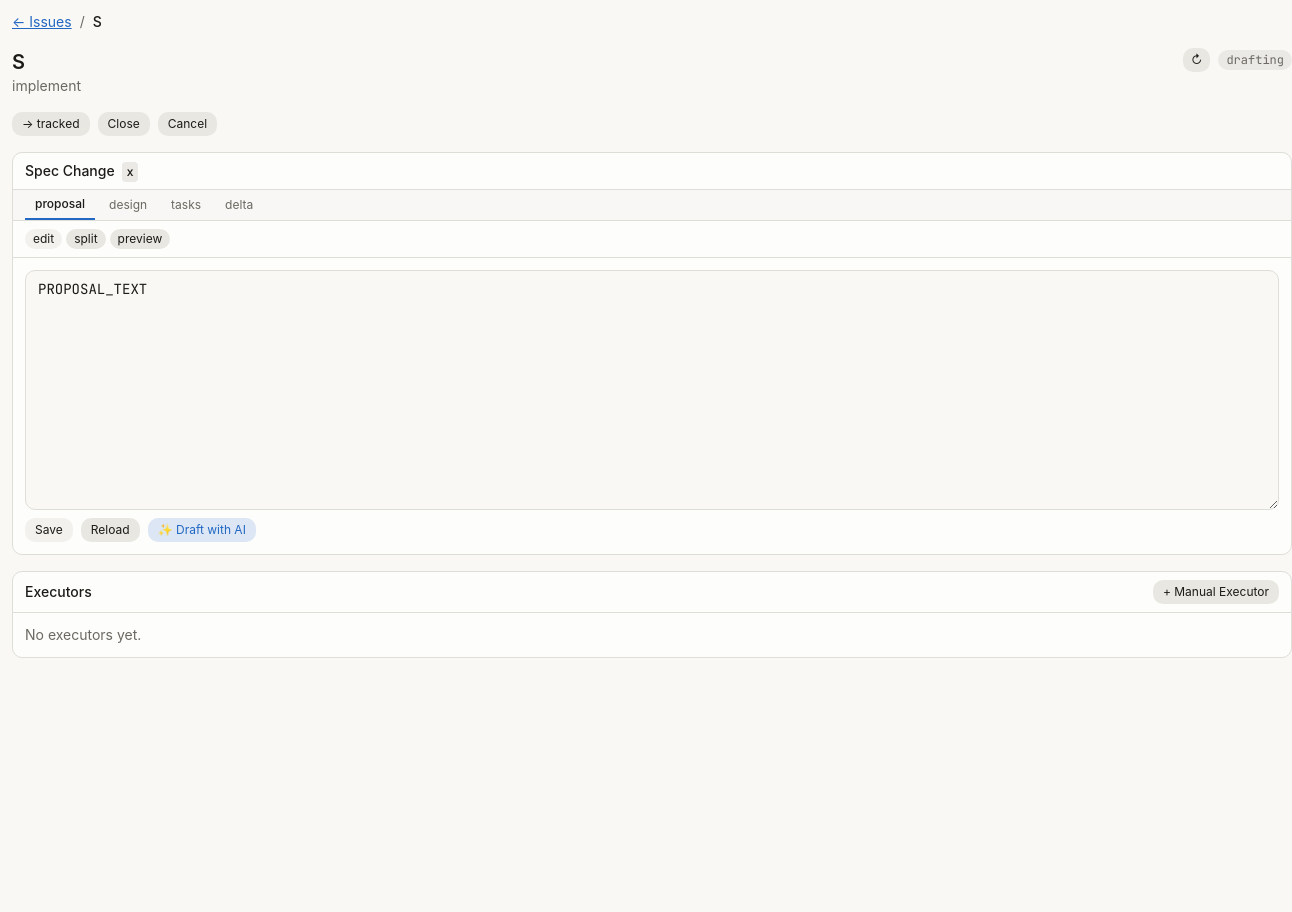
SubIssueDetailScreen › SpecChange artifact tabs › switches between artifact tabs
This screenshot has width=1292, height=912.
Check: the text box holds "PROPOSAL_TEXT", box [25, 270, 1279, 510]
Click the button "design" at (128, 205), box [99, 191, 157, 219]
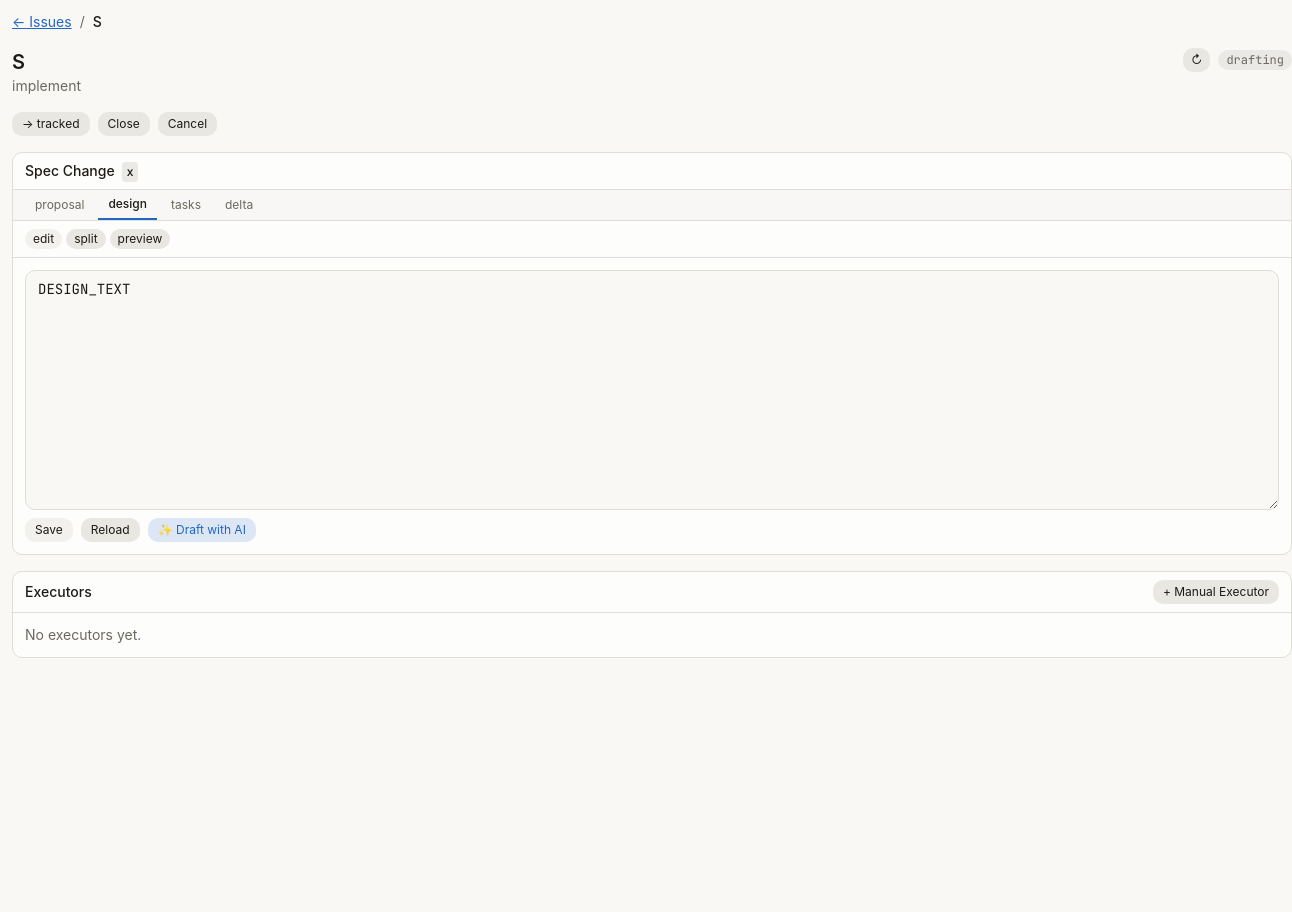
Check: the text box holds "DESIGN_TEXT", box [25, 270, 1279, 510]
Click the button "tasks" at (186, 205), box [161, 191, 211, 219]
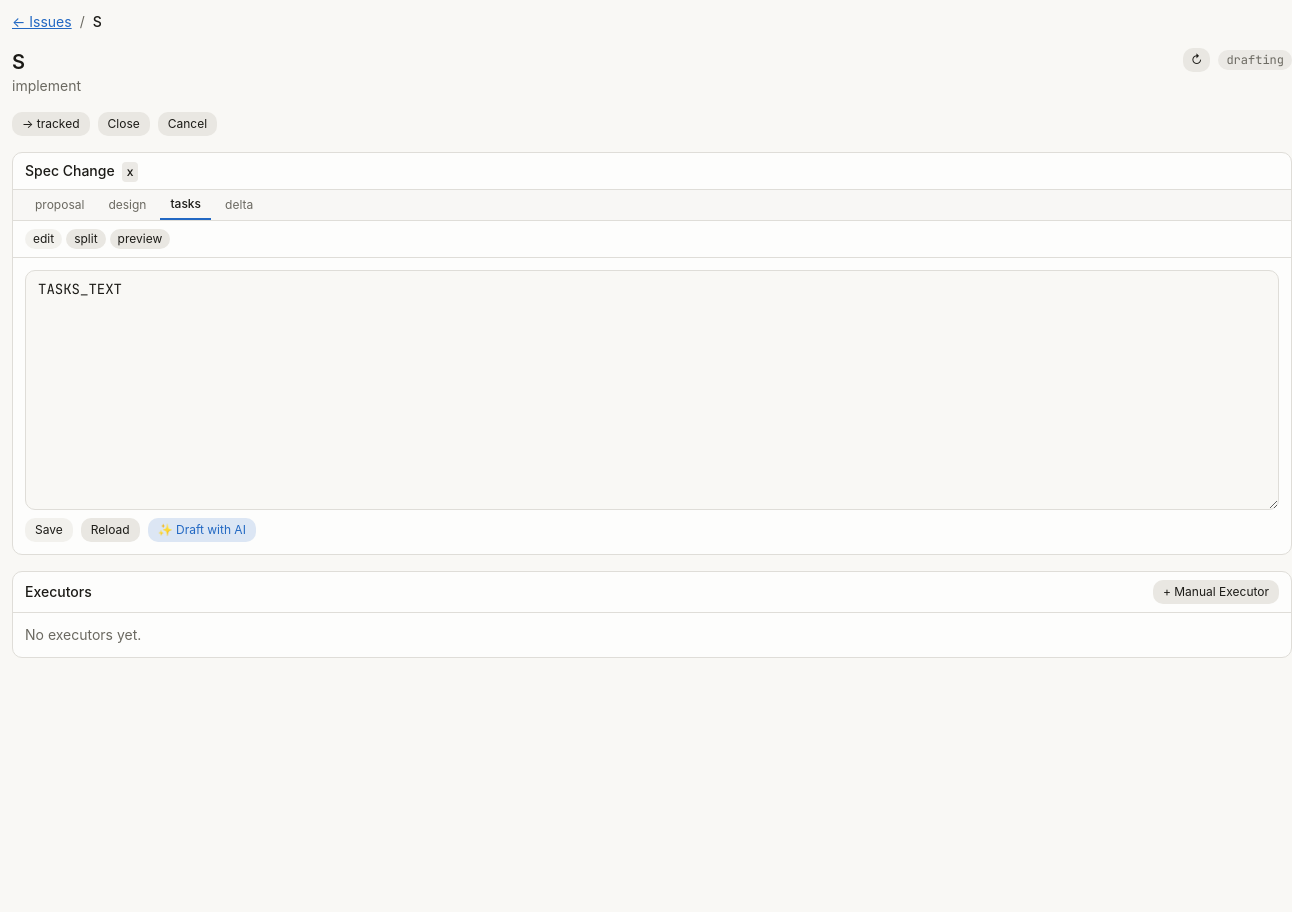
Check: the text box holds "TASKS_TEXT", box [25, 270, 1279, 510]
